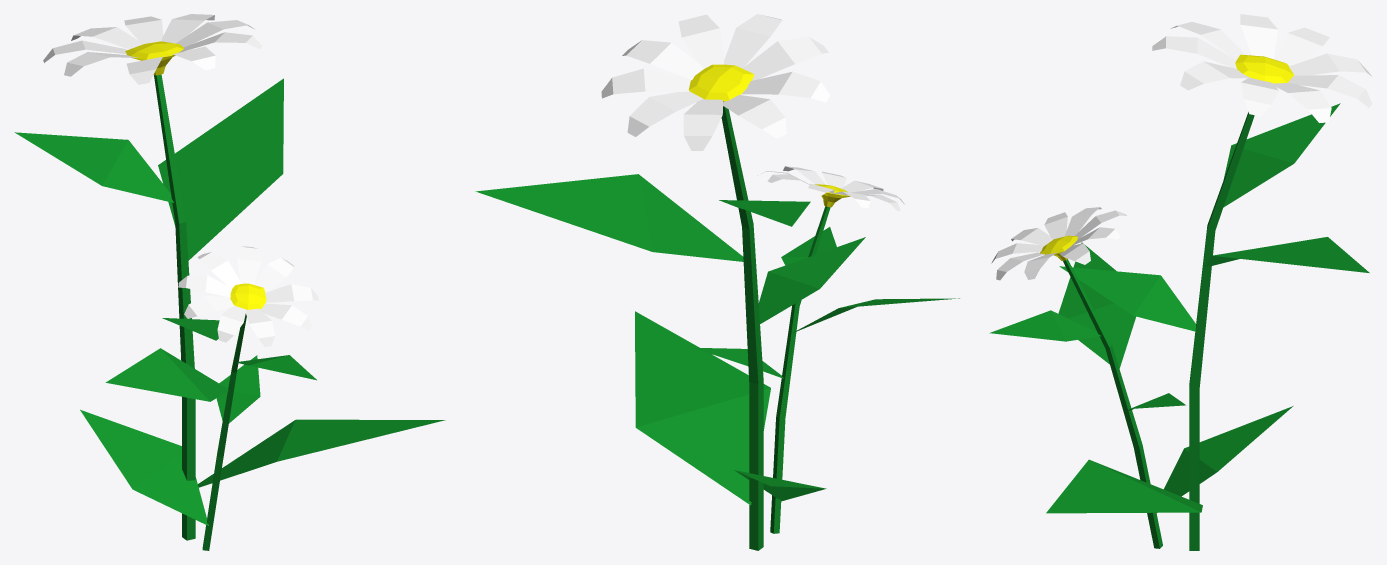
File: Flower White.fbx
The picture shows the model from 3 angles, left to right: view 1: azimuth 30°, elevation 25°; view 2: azimuth 150°, elevation 25°; view 3: azimuth 270°, elevation 25°; orthographic projection. The views are drawn at different scales.
Visible parts, largest first — view 1: FlowerWhite; view 2: FlowerWhite; view 3: FlowerWhite.
Boxes of the visible parts, box(x1,y1,x2,y2) form: FlowerWhite: box(14, 14, 445, 550); FlowerWhite: box(475, 14, 959, 550); FlowerWhite: box(989, 14, 1372, 550).
Bounding box in the file's own units: 133 × 192 × 132.
Materials: 1 (1 with a texture image).
